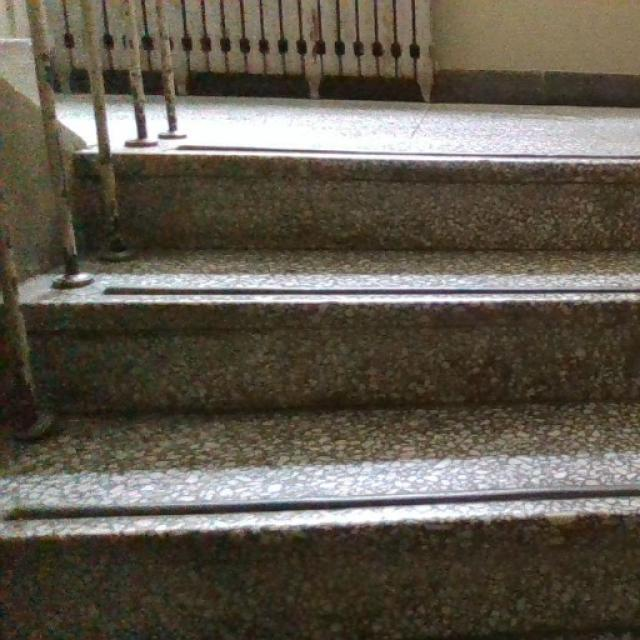Stairs: (0, 145, 639, 639)
